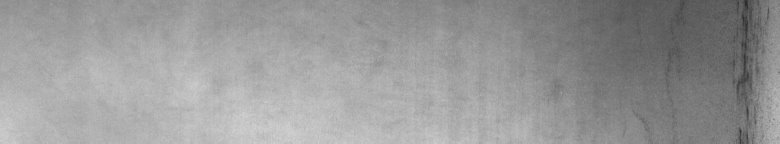ka: (636, 4, 776, 136)
